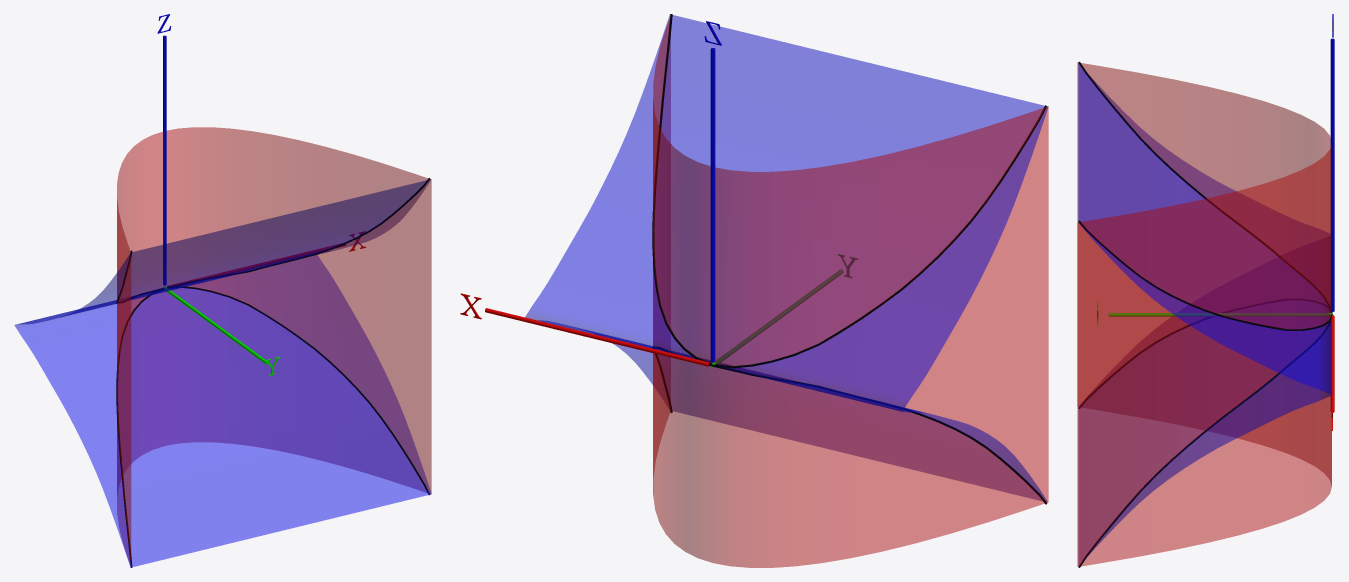
The model's file is Parabola ValAbs.fbx.
The picture shows the model from 3 angles, left to right: view 1: azimuth 30°, elevation 25°; view 2: azimuth 150°, elevation 25°; view 3: azimuth 270°, elevation 25°; orthographic projection. The views are drawn at different scales.
Visible parts, largest first — view 1: polySurface2, polySurface6, polySurface5, Eje_Z, Eje_Y; view 2: polySurface2, polySurface6, polySurface5, Eje_Z, Eje_X; view 3: polySurface2, polySurface6, polySurface5, Eje_Z, Eje_Y, Eje_X.
Part boxes in pixels (left/top/right/bottom): polySurface2: left=117, top=127, right=431, bottom=566; polySurface6: left=14, top=179, right=430, bottom=567; polySurface5: left=116, top=178, right=430, bottom=567; Eje_Z: left=163, top=35, right=166, bottom=285; Eje_Y: left=164, top=287, right=267, bottom=364; polySurface2: left=653, top=17, right=1048, bottom=567; polySurface6: left=525, top=15, right=1048, bottom=502; polySurface5: left=652, top=14, right=1047, bottom=504; Eje_Z: left=710, top=48, right=715, bottom=362; Eje_X: left=485, top=308, right=709, bottom=366; polySurface2: left=1077, top=62, right=1331, bottom=566; polySurface6: left=1078, top=63, right=1332, bottom=566; polySurface5: left=1078, top=61, right=1332, bottom=567; Eje_Z: left=1330, top=38, right=1334, bottom=311; Eje_Y: left=1108, top=313, right=1332, bottom=316; Eje_X: left=1330, top=315, right=1334, bottom=412.
Bounding box in the file's own units: 261 × 306 × 151.
